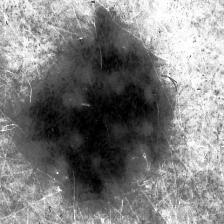Benign Marking or Mole: (41, 13, 172, 202)
